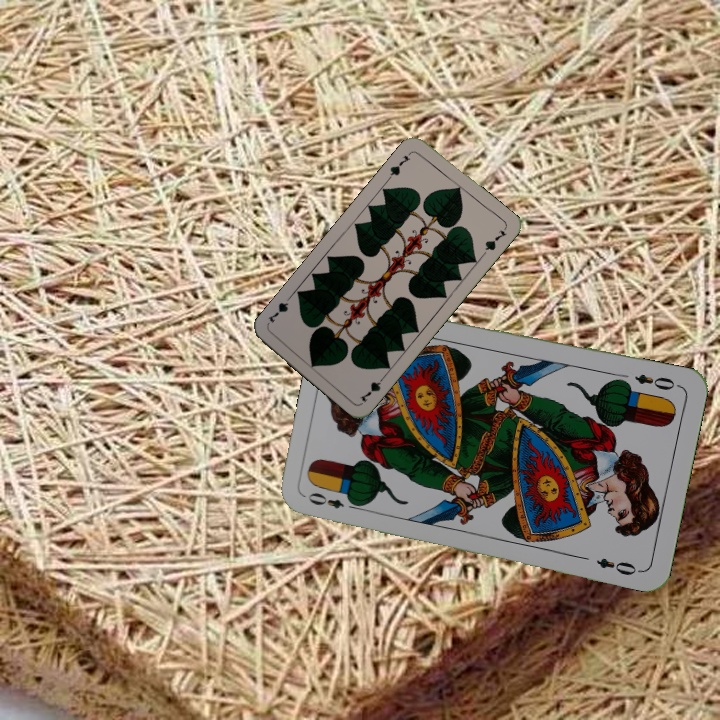EO: (304, 488, 361, 513), (630, 369, 682, 393)
G7: (355, 371, 388, 405), (384, 148, 415, 182)
